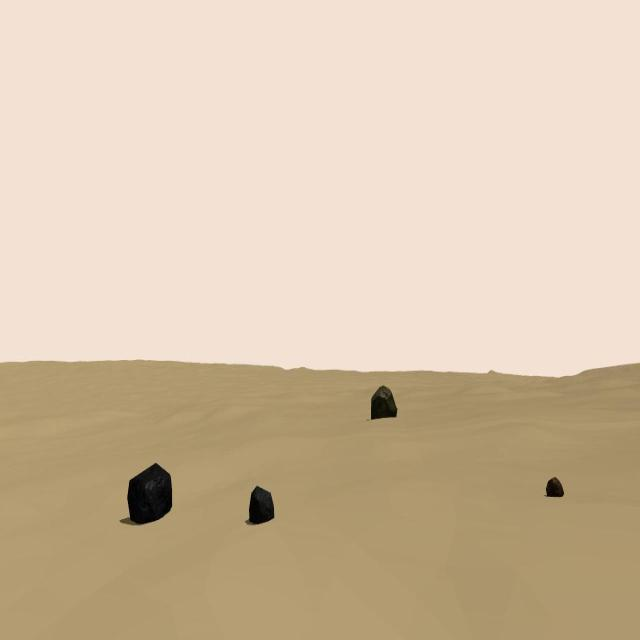rock: (125, 462, 172, 525), (250, 486, 274, 524), (371, 384, 397, 419), (546, 476, 563, 498)
